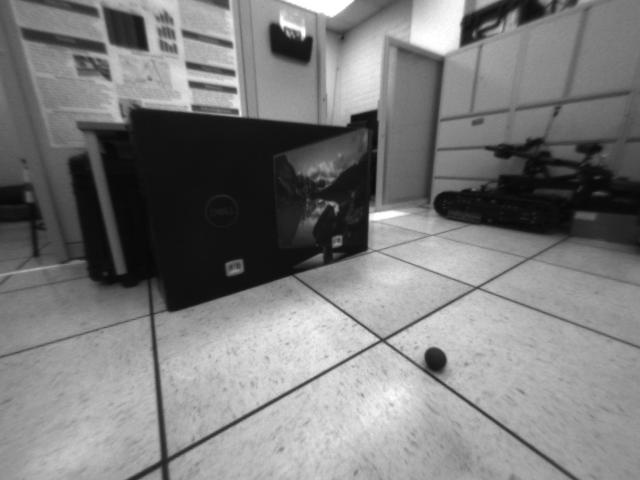dogtoy: (422, 341, 453, 379)
